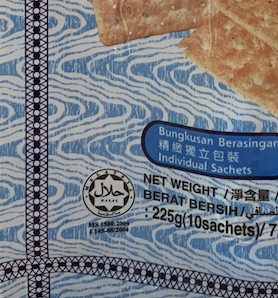halal: (87, 172, 129, 214)
